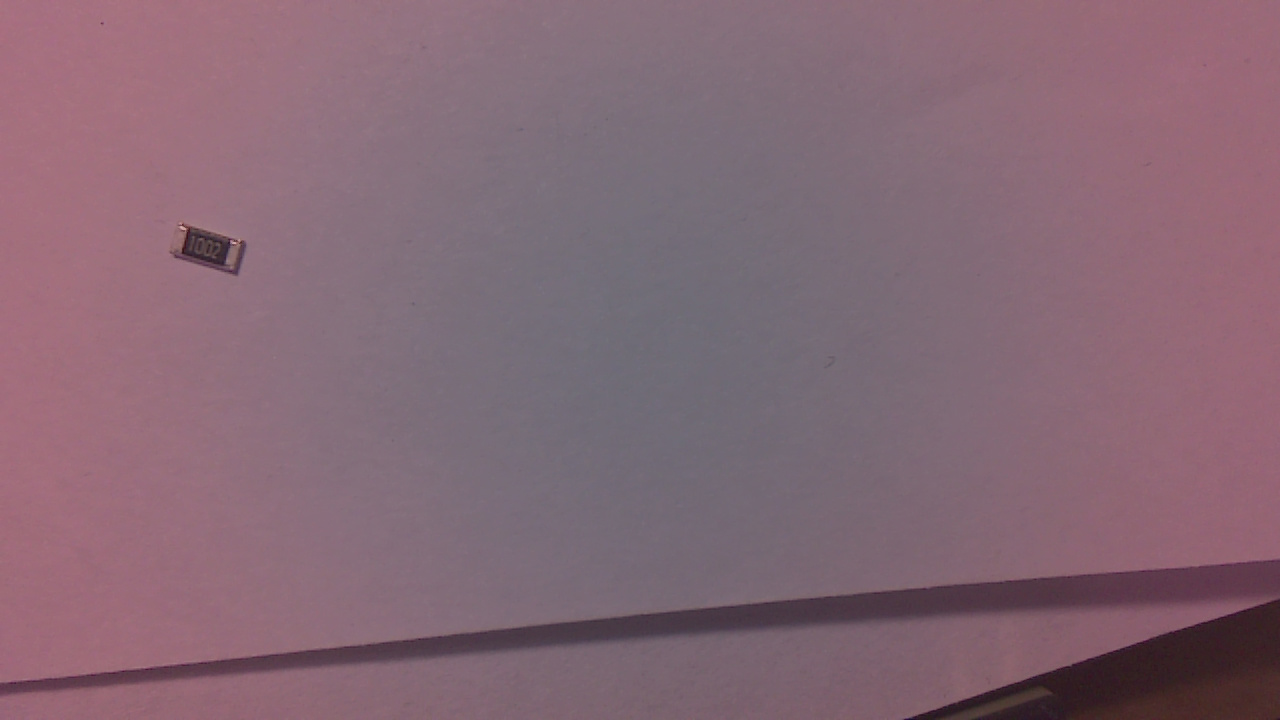Resistor: (173, 225, 255, 279)
